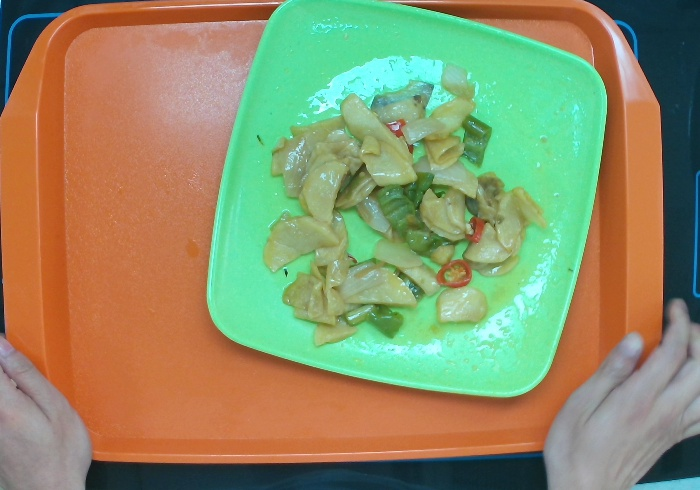ZNLD-Lv_Fang_Pan: (203, 1, 610, 410)
